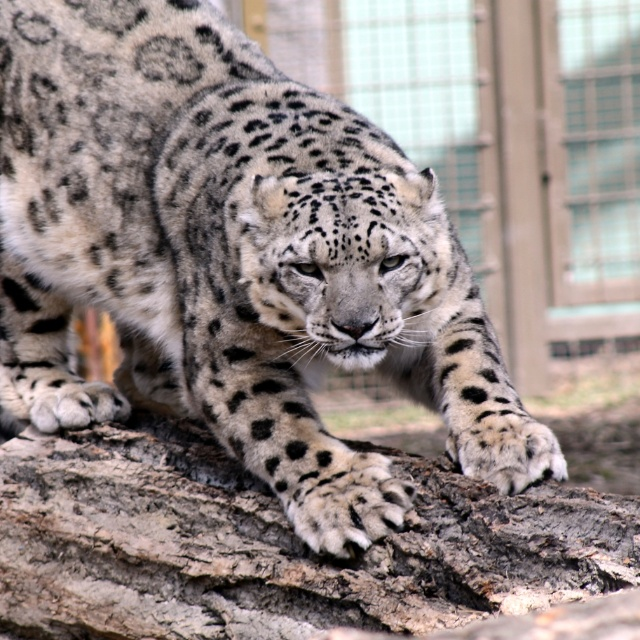Leopard: (0, 0, 569, 558)
